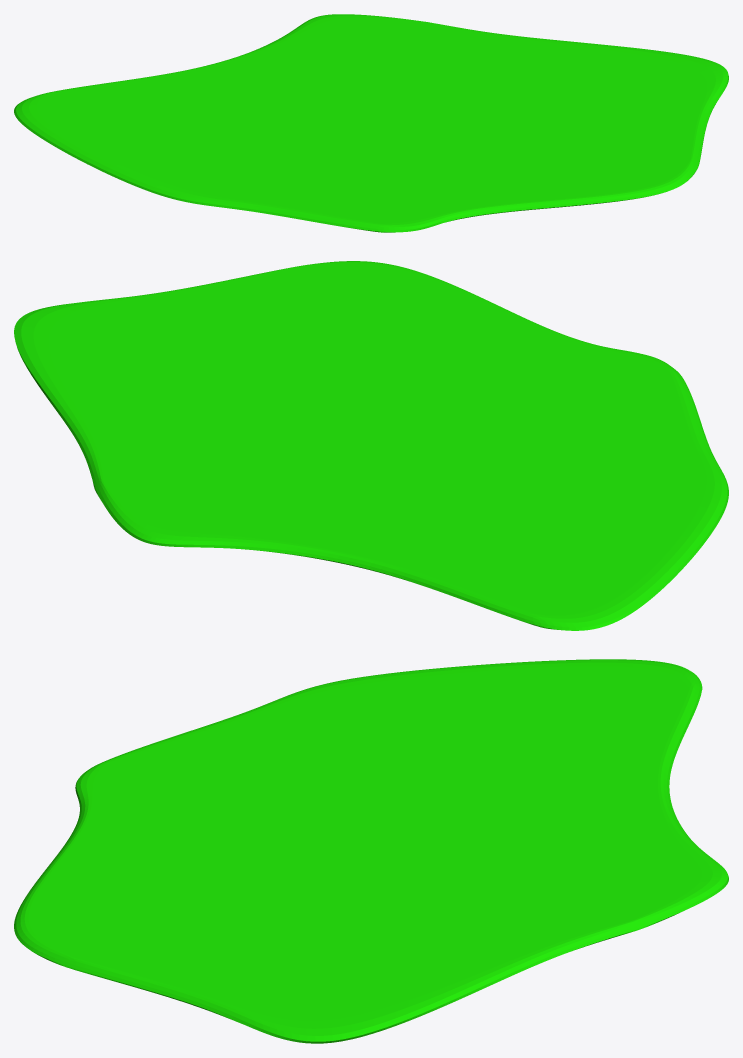
The model's file is puddle1.fbx.
3 views of the same model, one above another, from view 1: azimuth 30°, elevation 25°; view 2: azimuth 150°, elevation 25°; view 3: azimuth 270°, elevation 25° (orthographic). The views are drawn at different scales.
Parts seen in each view (by area): view 1: Plane; view 2: Plane; view 3: Plane.
Part boxes in pixels (x1,y1,x2,y2): Plane: (14, 14, 728, 232); Plane: (14, 261, 728, 630); Plane: (14, 659, 728, 1043).
Bounding box in the file's own units: 303 × 2.37 × 239.
